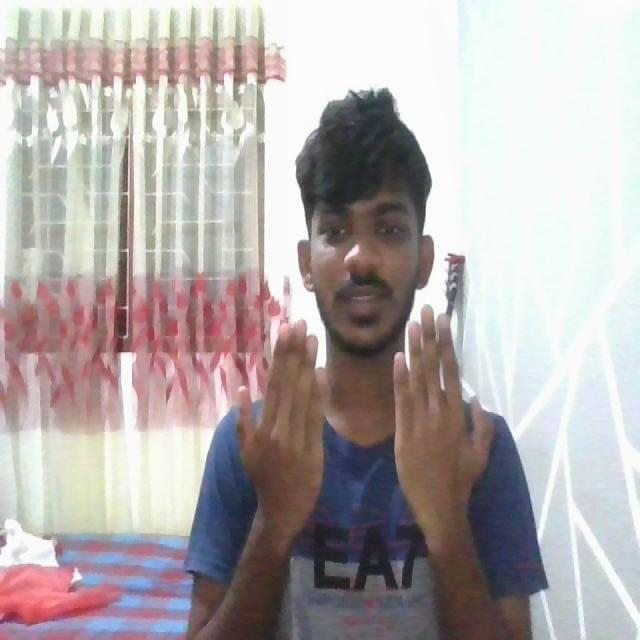ThankYou: (173, 299, 550, 640)
